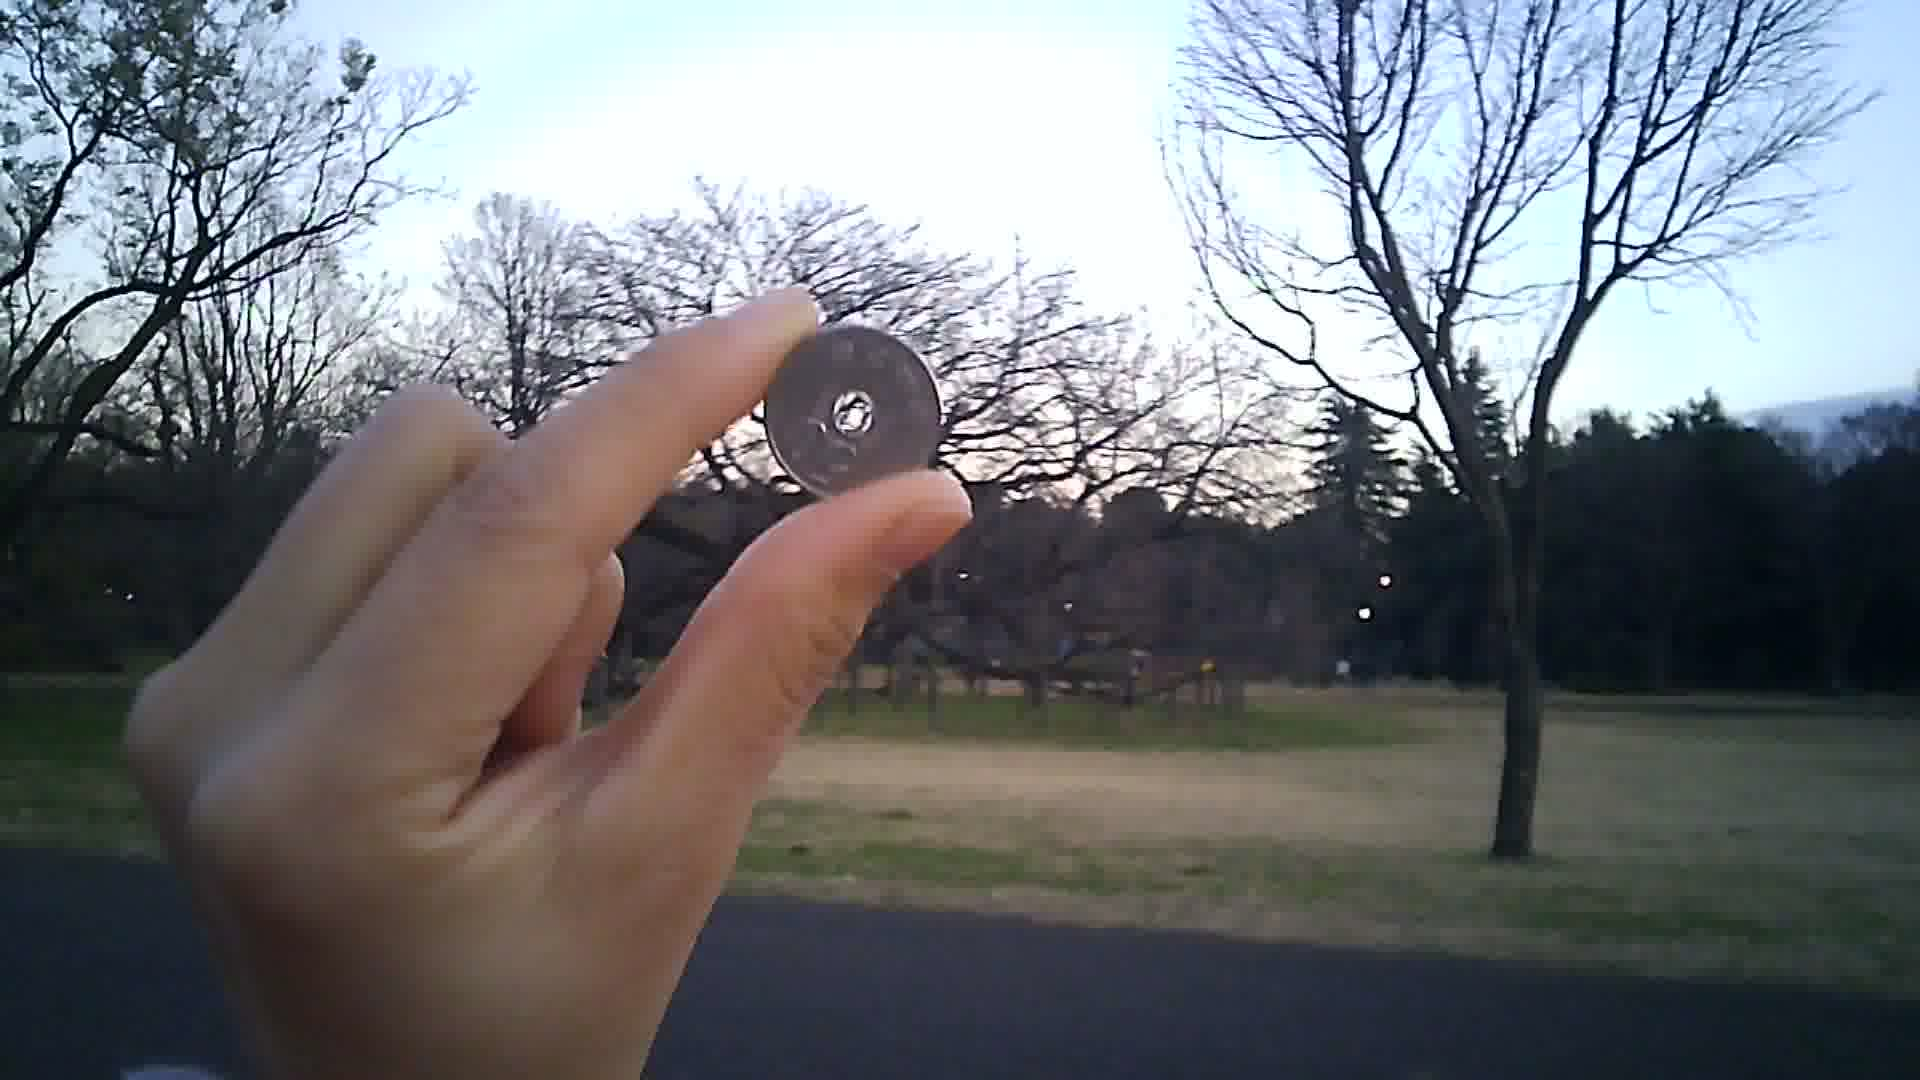50 Yen: (760, 328, 952, 513)
